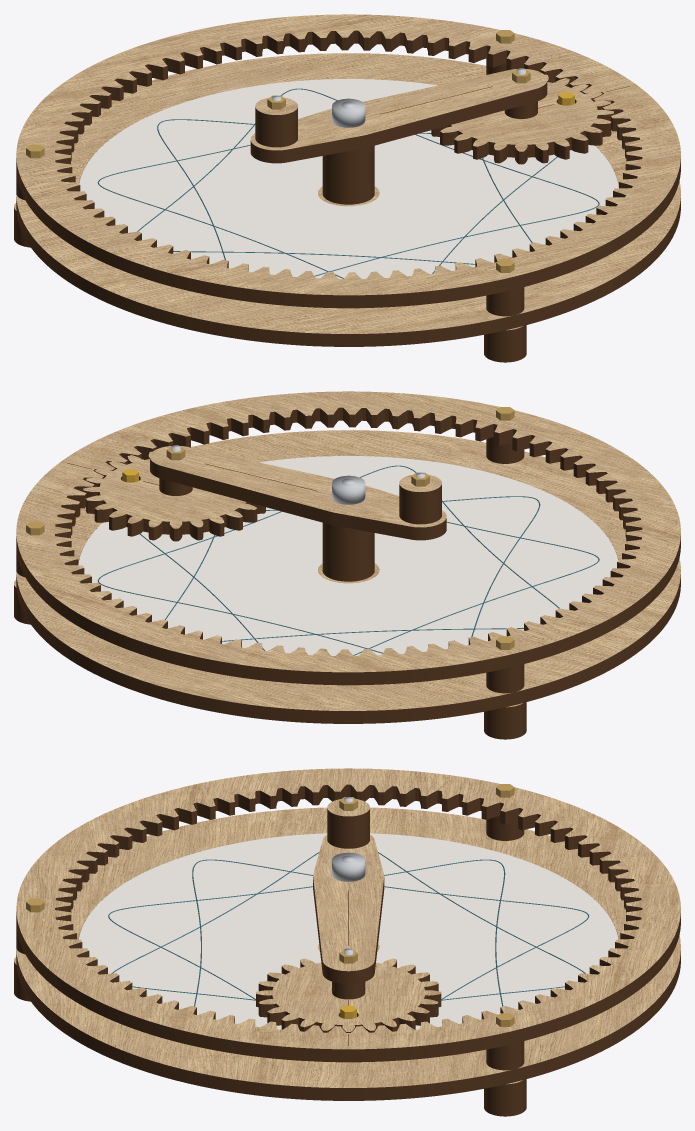
Rendered from trace.glb.
3 renders of one model, top to bottom at view 1: azimuth 30°, elevation 25°; view 2: azimuth 150°, elevation 25°; view 3: azimuth 270°, elevation 25°, orthographic.
Parts seen in each view (by area): view 1: flat0, body1, body5, body43, body0, body3, body4, flatline0, body42, body2, pin1, body51; view 2: flat0, body1, body5, body43, body0, body3, body4, flatline0, body42, body2, pin1, body51; view 3: flat0, body1, body5, body3, body0, body43, body4, flatline0, pin1, body51, body42.
Part boxes in pixels (x1,y1,x2,y2): flat0: (79,79,618,278); body1: (16,14,680,301); body5: (16,53,680,340); body43: (250,69,547,156); body0: (16,37,680,308); body3: (433,74,613,157); body4: (16,203,680,346); flatline0: (97,88,599,278); body42: (250,88,547,163); body2: (431,120,611,164); pin1: (332,98,365,127); body51: (255,97,297,121); flat0: (78,456,617,655); body1: (16,391,680,678); body5: (16,430,680,717); body43: (150,446,446,533); body0: (16,414,680,685); body3: (83,451,264,534); body4: (16,581,680,723); flatline0: (97,465,599,655); body42: (150,465,446,540); body2: (86,497,265,541); pin1: (332,475,365,504); body51: (399,474,441,498); flat0: (78,833,618,1029); body1: (16,768,680,1055); body5: (16,807,680,1094); body3: (256,958,441,1032); body0: (16,791,680,1062); body43: (313,834,384,977); body4: (16,957,680,1100); flatline0: (108,852,589,1006); pin1: (332,852,365,881); body51: (327,799,369,822); body42: (313,883,384,983).
Bounding box in the file's own units: 0.28 × 0.0739 × 0.281.
8 materials, 1 textured.
